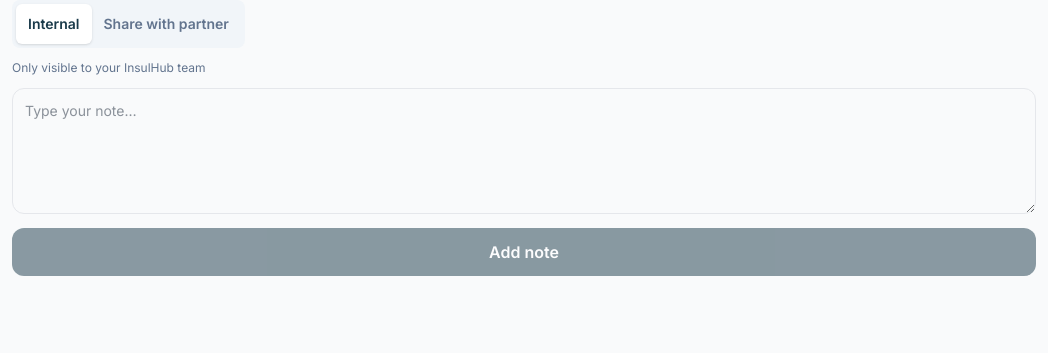
it: deliberate partner note sharing › requires selecting partner sharing and retains the draft after a failed post
Click the button "Share with partner".
click(166, 24)  # box top-left (92, 4), bottom-right (241, 44)
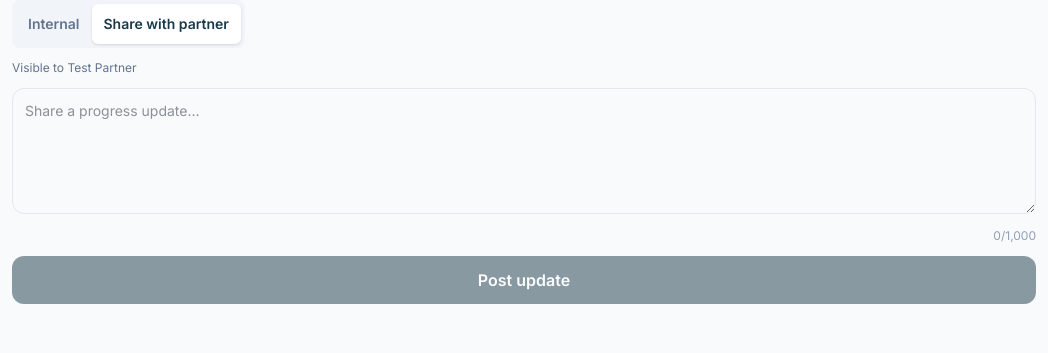
Expected: the text "Visible to Test Partner" is shown, top-left (12, 60), bottom-right (136, 75)
Type "Installer booked" into the text box named "Note".
click(524, 151); type("Installer booked")  # box top-left (12, 88), bottom-right (1036, 214)
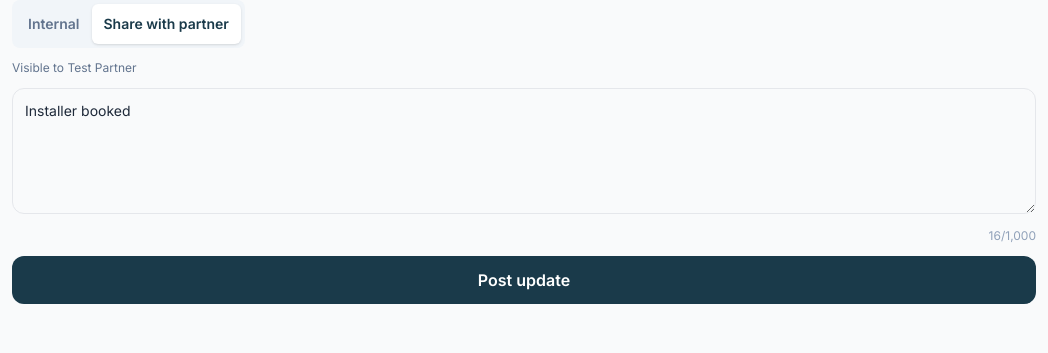
Click the button "Post update".
click(524, 280)  # box top-left (12, 256), bottom-right (1036, 304)
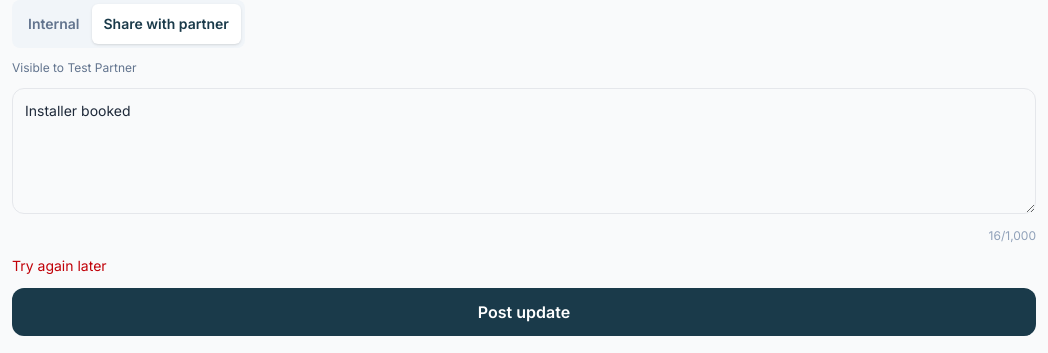
Expected: the message "Try again later" is shown, top-left (12, 257), bottom-right (107, 274)
